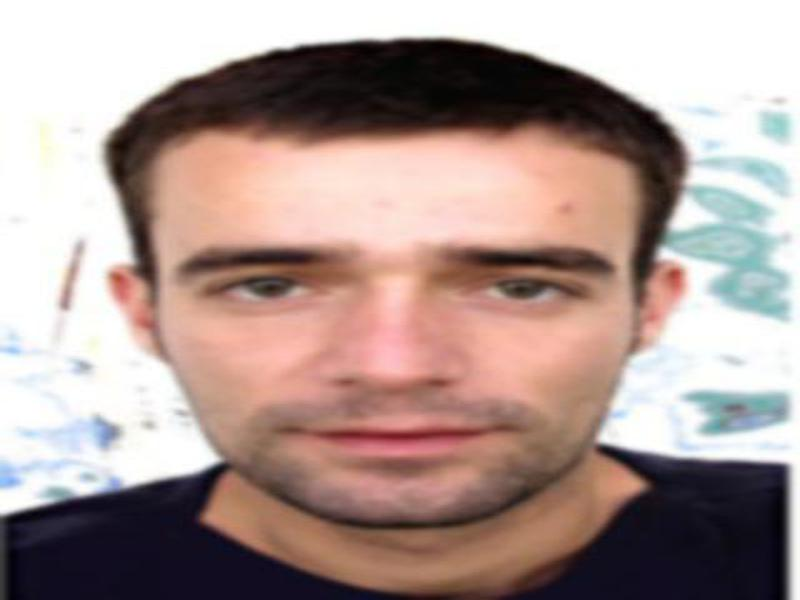without_mask: (153, 138, 646, 533)
